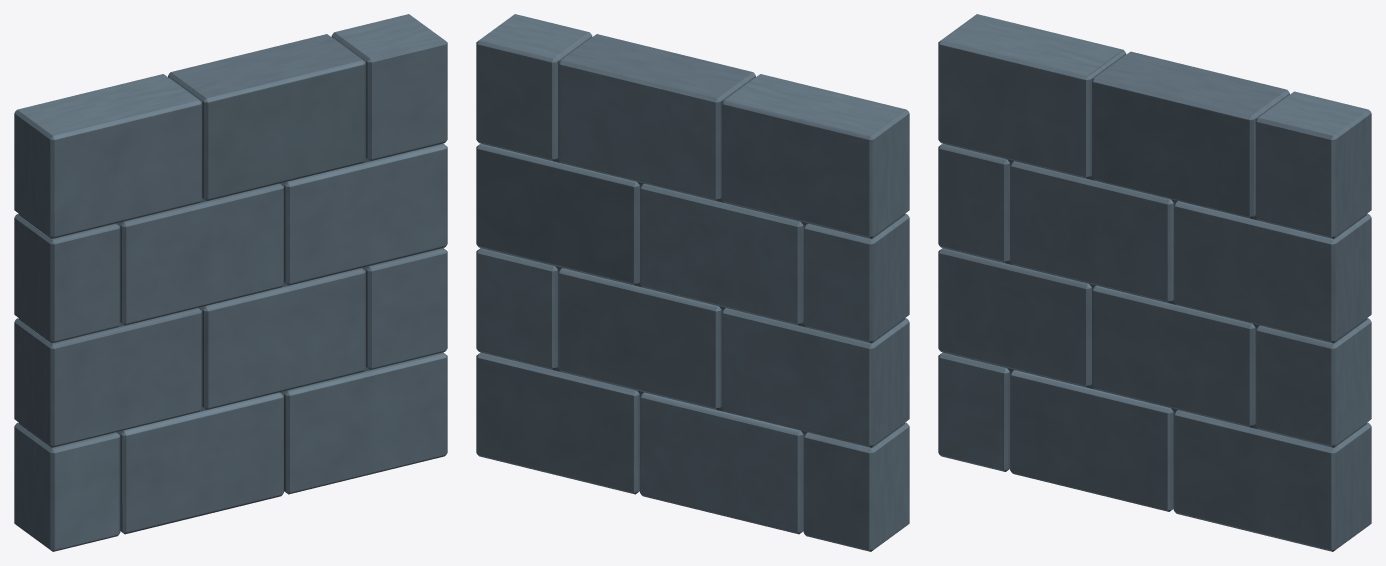
Rendered from TX_A01_Wall_Solid_2m.fbx.
3 renders of one model, left to right at view 1: azimuth 30°, elevation 25°; view 2: azimuth 150°, elevation 25°; view 3: azimuth 330°, elevation 25°, orthographic.
Parts seen in each view (by area): view 1: TX_A01_Wall_Solid_2m; view 2: TX_A01_Wall_Solid_2m; view 3: TX_A01_Wall_Solid_2m.
Boxes of the visible parts, x1,y1,x2,y2 form: TX_A01_Wall_Solid_2m: (14, 14, 447, 551); TX_A01_Wall_Solid_2m: (476, 14, 909, 551); TX_A01_Wall_Solid_2m: (938, 14, 1371, 551).
Size of the model in its own units: 1.99 by 1.99 by 0.34.
1 material, 1 textured.
